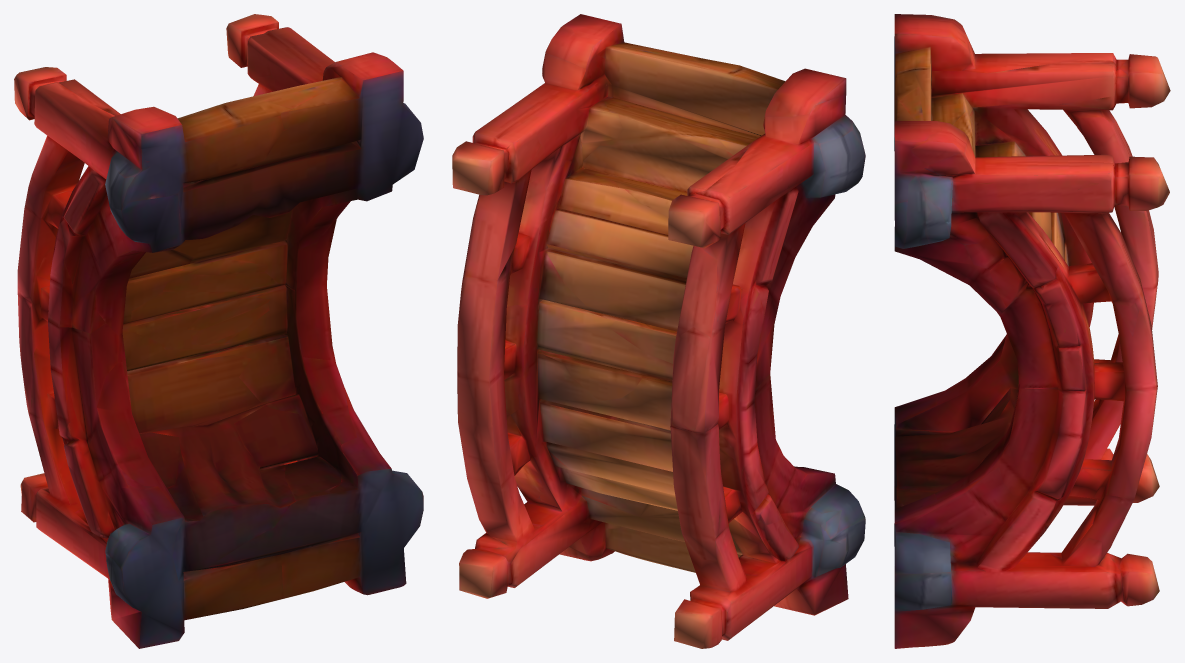
3 renders of one model, left to right at view 1: azimuth 30°, elevation 25°; view 2: azimuth 150°, elevation 25°; view 3: azimuth 270°, elevation 25°, orthographic. The views are drawn at different scales.
Parts seen in each view (by area): view 1: material; view 2: material; view 3: material.
Boxes of the visible parts, x1,y1,x2,y2 form: material: (14, 14, 423, 648); material: (452, 14, 865, 648); material: (894, 14, 1170, 648).
Bounding box in the file's own units: 0.6112 × 1 × 0.4909.
1 material, 1 textured.
